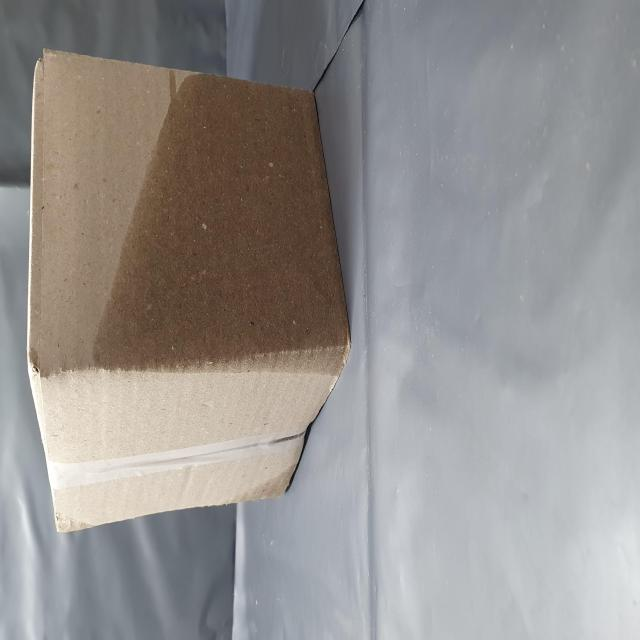wet: (126, 164, 325, 602)
